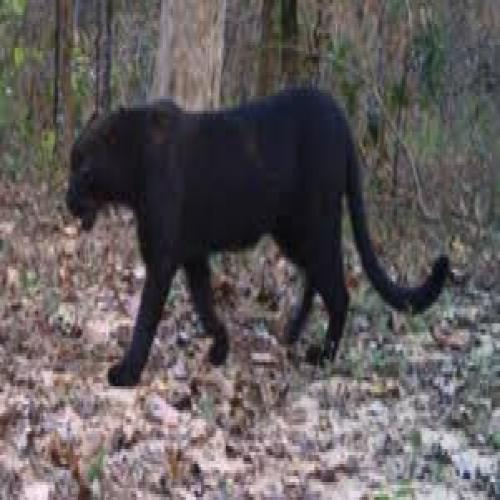panther-endangered: (68, 90, 452, 389)
